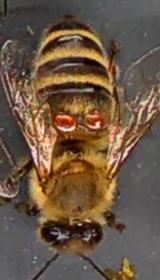varroa_mite: (40, 104, 80, 138), (80, 103, 112, 138)
